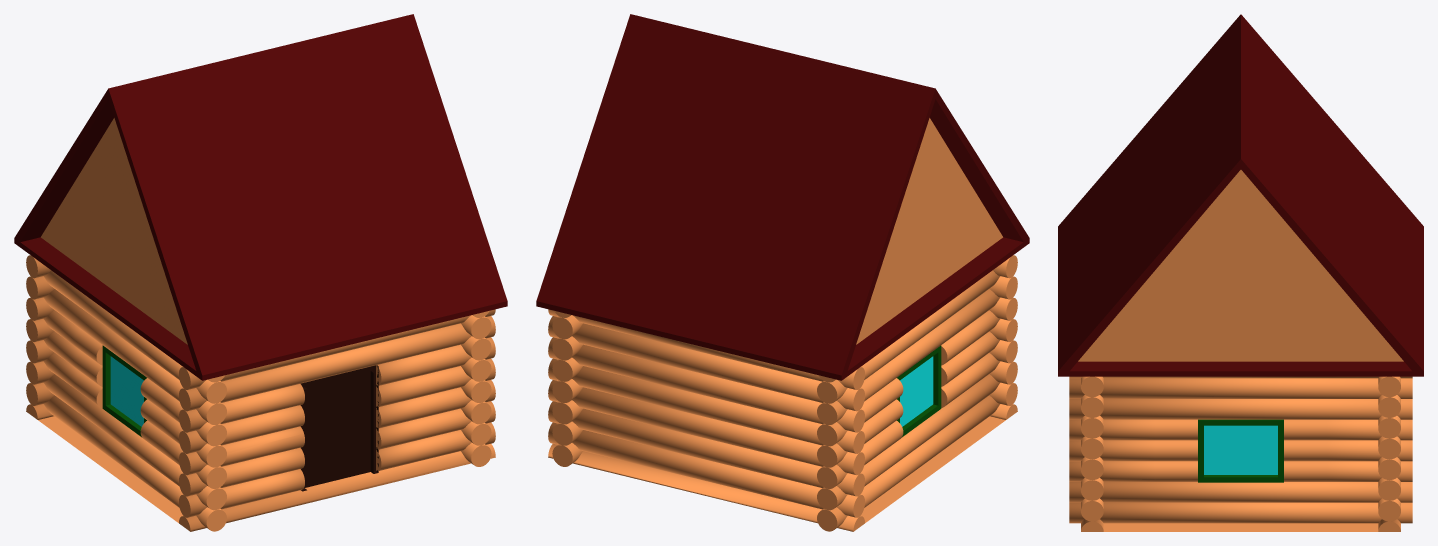
The picture shows the model from 3 angles, left to right: view 1: azimuth 30°, elevation 25°; view 2: azimuth 150°, elevation 25°; view 3: azimuth 270°, elevation 25°; orthographic projection. The views are drawn at different scales.
Visible parts, largest first — view 1: Куб.007_Куб.000, Куб.007_Куб.002_Куб.007_Куб.001, Куб.007_Куб.003_Куб.007_Куб.002, Куб.007_Куб.001_Куб.007_Куб.105, Куб.007_Куб.047_Куб.007_Куб.046, Куб.007_Куб.011_Куб.007_Куб.010, Куб.007_Куб.010_Куб.007_Куб.009, Куб.007_Куб.017_Куб.007_Куб.016, Куб.007_Куб.018_Куб.007_Куб.017, Куб.007_Куб.050, Куб.007_Куб.022_Куб.007_Куб.021, Куб.007_Куб.027_Куб.007_Куб.026 (+17 smaller); view 2: Куб.007_Куб.000, Куб.007_Куб.002_Куб.007_Куб.001, Куб.007_Куб.035_Куб.007_Куб.034, Куб.007_Куб.032_Куб.007_Куб.031, Куб.007_Куб.036_Куб.007_Куб.035, Куб.007_Куб.031_Куб.007_Куб.030, Куб.007_Куб.033_Куб.007_Куб.032, Куб.007_Куб.034_Куб.007_Куб.033, Куб.007_Куб.049_Куб.007_Куб.048, Куб.007_Куб.011_Куб.007_Куб.010, Куб.007_Куб.010_Куб.007_Куб.009, Куб.007_Куб.017_Куб.007_Куб.016 (+11 smaller); view 3: Куб.007_Куб.000, Куб.007_Куб.037_Куб.007_Куб.036, Куб.007_Куб.046_Куб.007_Куб.045, Куб.007_Куб.038_Куб.007_Куб.037, Куб.007_Куб.045_Куб.007_Куб.044, Куб.007_Куб.006_Куб.007_Куб.005, Куб.007_Куб.050, Куб.007_Куб.041_Куб.007_Куб.040, Куб.007_Куб.042_Куб.007_Куб.041, Куб.007_Куб.043_Куб.007_Куб.042, Куб.007_Куб.044_Куб.007_Куб.043, Куб.007_Куб.039_Куб.007_Куб.038 (+17 smaller).
Boxes of the visible parts, left/top/right/bottom form: Куб.007_Куб.000: left=14, top=14, right=507, bottom=380; Куб.007_Куб.002_Куб.007_Куб.001: left=41, top=118, right=187, bottom=344; Куб.007_Куб.003_Куб.007_Куб.002: left=300, top=365, right=378, bottom=491; Куб.007_Куб.001_Куб.007_Куб.105: left=179, top=316, right=495, bottom=411; Куб.007_Куб.047_Куб.007_Куб.046: left=179, top=444, right=495, bottom=531; Куб.007_Куб.011_Куб.007_Куб.010: left=43, top=374, right=226, bottom=510; Куб.007_Куб.010_Куб.007_Куб.009: left=44, top=395, right=226, bottom=531; Куб.007_Куб.017_Куб.007_Куб.016: left=43, top=289, right=226, bottom=424; Куб.007_Куб.018_Куб.007_Куб.017: left=43, top=270, right=226, bottom=403; Куб.007_Куб.050: left=38, top=416, right=183, bottom=522; Куб.007_Куб.022_Куб.007_Куб.021: left=179, top=447, right=304, bottom=496; Куб.007_Куб.027_Куб.007_Куб.026: left=179, top=384, right=304, bottom=432; Куб.007_Куб.000: left=536, top=14, right=1029, bottom=380; Куб.007_Куб.002_Куб.007_Куб.001: left=856, top=118, right=1002, bottom=344; Куб.007_Куб.035_Куб.007_Куб.034: left=548, top=401, right=864, bottom=496; Куб.007_Куб.032_Куб.007_Куб.031: left=548, top=337, right=864, bottom=432; Куб.007_Куб.036_Куб.007_Куб.035: left=548, top=422, right=864, bottom=517; Куб.007_Куб.031_Куб.007_Куб.030: left=548, top=316, right=864, bottom=411; Куб.007_Куб.033_Куб.007_Куб.032: left=548, top=358, right=864, bottom=453; Куб.007_Куб.034_Куб.007_Куб.033: left=548, top=380, right=864, bottom=475; Куб.007_Куб.049_Куб.007_Куб.048: left=548, top=444, right=864, bottom=531; Куб.007_Куб.011_Куб.007_Куб.010: left=817, top=374, right=1000, bottom=510; Куб.007_Куб.010_Куб.007_Куб.009: left=817, top=395, right=999, bottom=531; Куб.007_Куб.017_Куб.007_Куб.016: left=817, top=289, right=1000, bottom=424; Куб.007_Куб.000: left=1058, top=14, right=1423, bottom=376; Куб.007_Куб.037_Куб.007_Куб.036: left=1069, top=502, right=1412, bottom=523; Куб.007_Куб.046_Куб.007_Куб.045: left=1069, top=378, right=1412, bottom=398; Куб.007_Куб.038_Куб.007_Куб.037: left=1069, top=482, right=1412, bottom=502; Куб.007_Куб.045_Куб.007_Куб.044: left=1069, top=399, right=1412, bottom=419; Куб.007_Куб.006_Куб.007_Куб.005: left=1204, top=425, right=1277, bottom=474; Куб.007_Куб.050: left=1103, top=523, right=1378, bottom=531; Куб.007_Куб.041_Куб.007_Куб.040: left=1284, top=440, right=1412, bottom=461; Куб.007_Куб.042_Куб.007_Куб.041: left=1069, top=440, right=1197, bottom=461; Куб.007_Куб.043_Куб.007_Куб.042: left=1284, top=419, right=1412, bottom=440; Куб.007_Куб.044_Куб.007_Куб.043: left=1069, top=419, right=1197, bottom=440; Куб.007_Куб.039_Куб.007_Куб.038: left=1284, top=461, right=1412, bottom=481.
Size of the model in its own units: 6 by 7.2 by 6.4.
